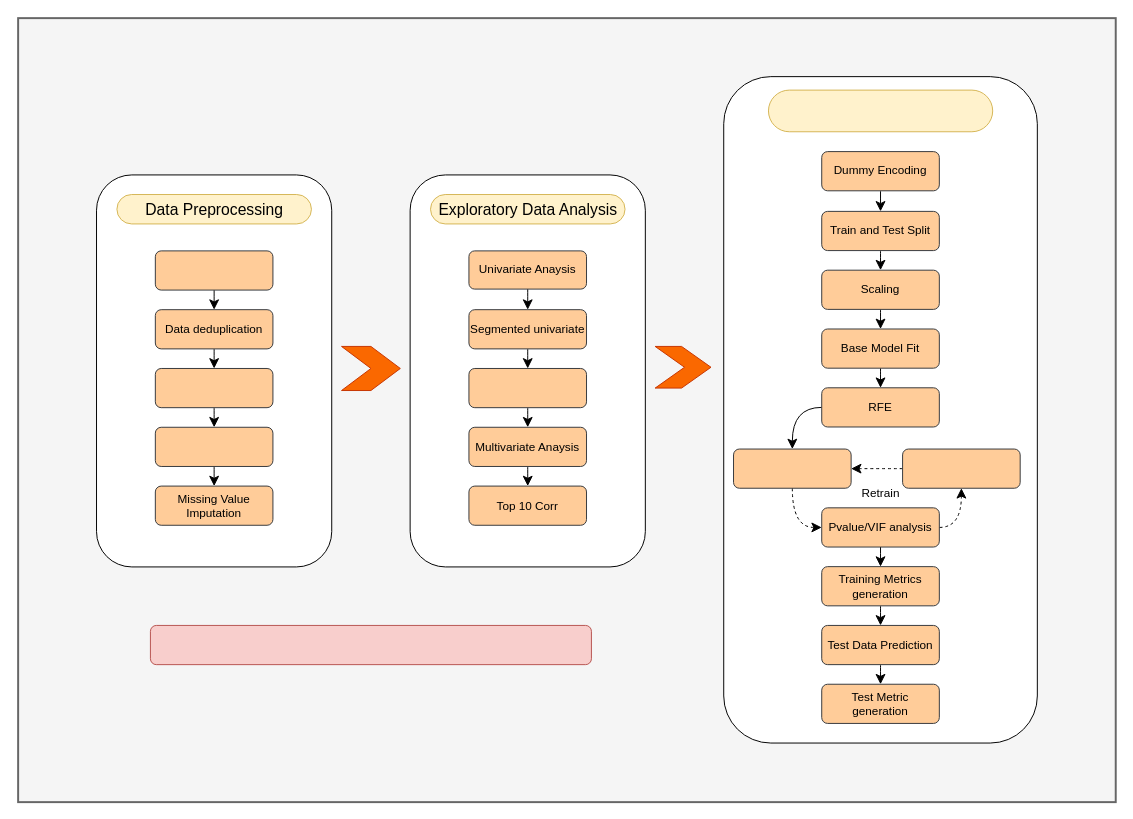
This 1133x819 diagram has some shape labels left out. Here are the shapes that lost their labels. From the top down, the centre of each, then its label:
At [880,110]: "Model Training - Prediciton Evaluation".
At [213,270]: "Data Import".
At [213,388]: "Outlier Analysis/ capping".
At [527,388]: "Bivariate Analysis".
At [213,446]: "Column Renaming".
At [792,468]: "Model fit".
At [961,468]: "MFE".
At [370,644]: "Logistic Regression".
